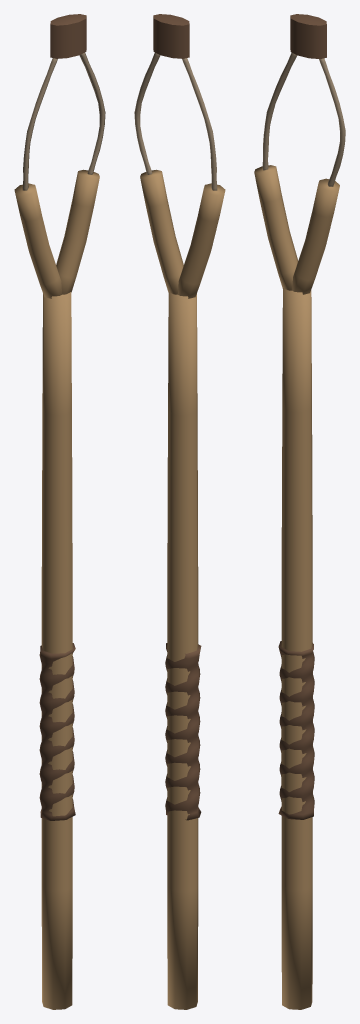
The model's file is halfling-sling-staff.glb.
The picture shows the model from 3 angles, left to right: view 1: azimuth 30°, elevation 25°; view 2: azimuth 150°, elevation 25°; view 3: azimuth 330°, elevation 25°; orthographic projection.
Parts seen in each view (by area): view 1: halfling-sling-staff; view 2: halfling-sling-staff; view 3: halfling-sling-staff.
Part boxes in pixels (x1,y1,x2,y2): halfling-sling-staff: [14, 14, 105, 1009]; halfling-sling-staff: [134, 14, 225, 1009]; halfling-sling-staff: [254, 14, 345, 1009].
Bounding box in the file's own units: 0.198 × 2.07 × 0.065.
